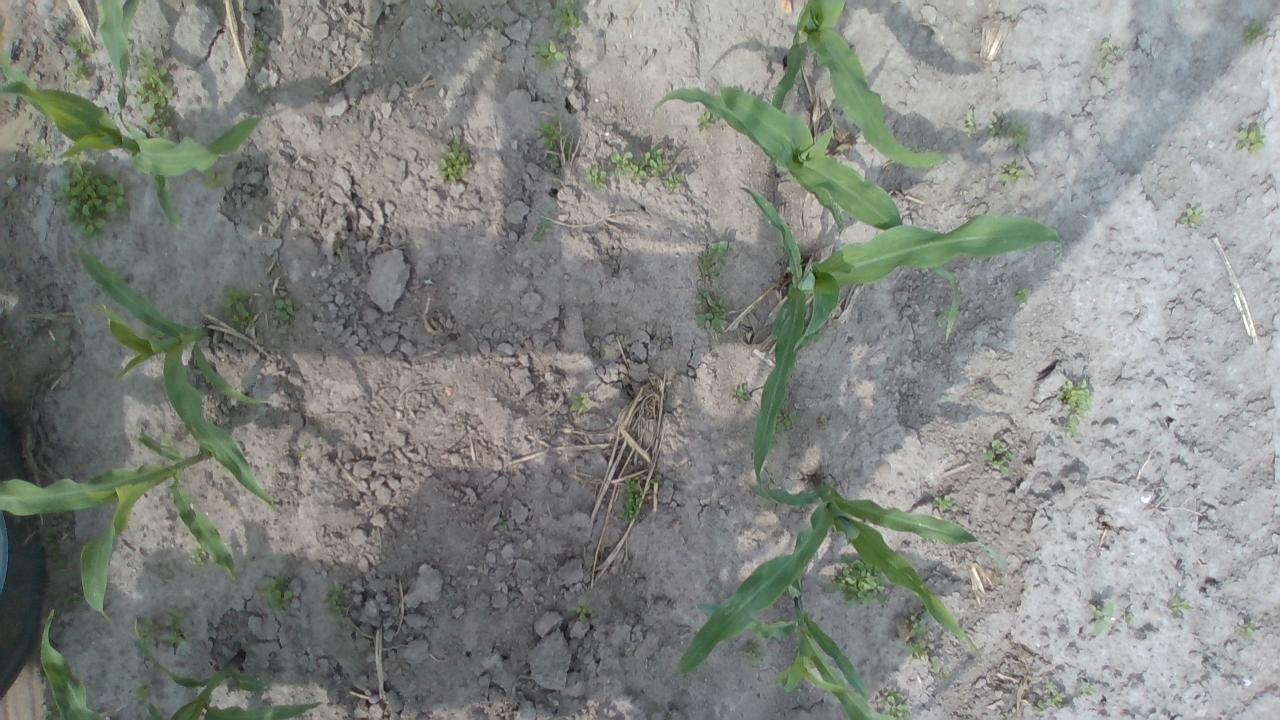Maize: (740, 179, 1064, 508), (650, 74, 964, 345), (672, 468, 1004, 676), (73, 248, 279, 509), (0, 430, 239, 640), (0, 47, 264, 226), (38, 606, 325, 720), (770, 0, 951, 172), (695, 578, 886, 720), (96, 0, 144, 139)
Weeds: (50, 152, 129, 237), (130, 46, 177, 136), (830, 550, 890, 608), (608, 144, 668, 176), (136, 612, 188, 648), (691, 290, 734, 330), (437, 134, 472, 182), (64, 34, 96, 84), (221, 286, 256, 331), (903, 603, 929, 660), (1054, 378, 1094, 415), (536, 118, 566, 166), (696, 239, 732, 276), (256, 574, 294, 608), (982, 439, 1017, 474), (872, 690, 912, 720), (552, 0, 584, 36), (985, 120, 1028, 146), (616, 478, 642, 520), (270, 293, 304, 322), (1234, 124, 1266, 154), (533, 38, 567, 66), (736, 639, 768, 667), (1088, 600, 1114, 634), (324, 582, 346, 616), (582, 165, 610, 190), (774, 407, 800, 433), (28, 141, 51, 165), (60, 591, 85, 612), (1244, 21, 1266, 44), (1000, 162, 1024, 183), (697, 108, 721, 128), (1043, 682, 1062, 707), (1066, 414, 1084, 440), (134, 679, 154, 702), (248, 34, 266, 59), (570, 392, 592, 412), (192, 542, 208, 568), (1100, 37, 1120, 57), (532, 219, 550, 241), (205, 168, 224, 188), (926, 655, 944, 676), (1170, 596, 1191, 614), (661, 174, 687, 188), (575, 600, 590, 624), (451, 12, 473, 28), (1238, 620, 1256, 639), (932, 494, 952, 511), (257, 670, 273, 691), (1182, 207, 1200, 225), (1012, 287, 1030, 303), (964, 113, 978, 133), (734, 387, 751, 402), (936, 306, 950, 322), (1032, 698, 1046, 714), (781, 384, 792, 404), (1078, 684, 1096, 696), (768, 436, 777, 454), (1125, 612, 1135, 624)
